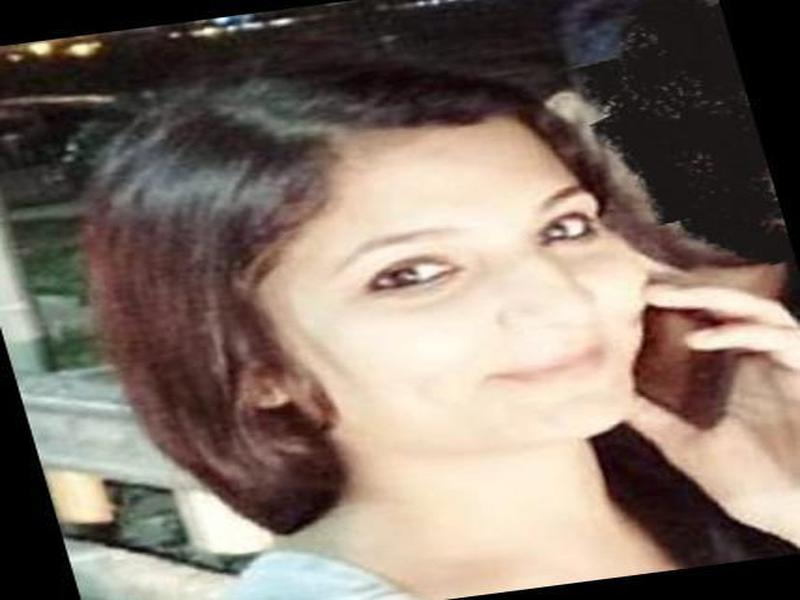without_mask: (249, 123, 651, 451)
